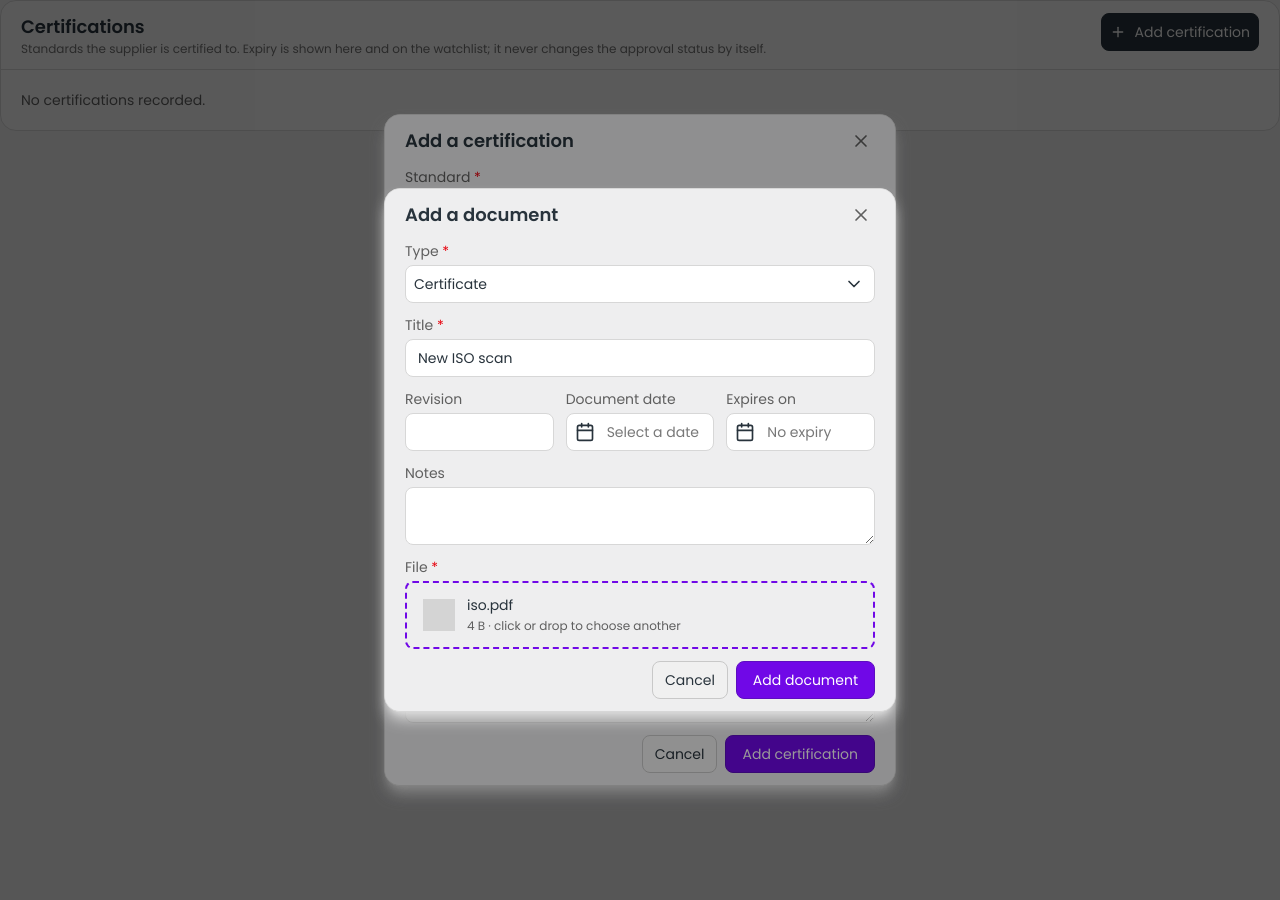
Test: documents › adds a document from the certification form and chooses it, without leaving
The width and height of the screenshot is (1280, 900).
Earlier steps of the test are not shown.
Step 1. Click the button "Add document" → x=805, y=680, box [736,661,875,699]
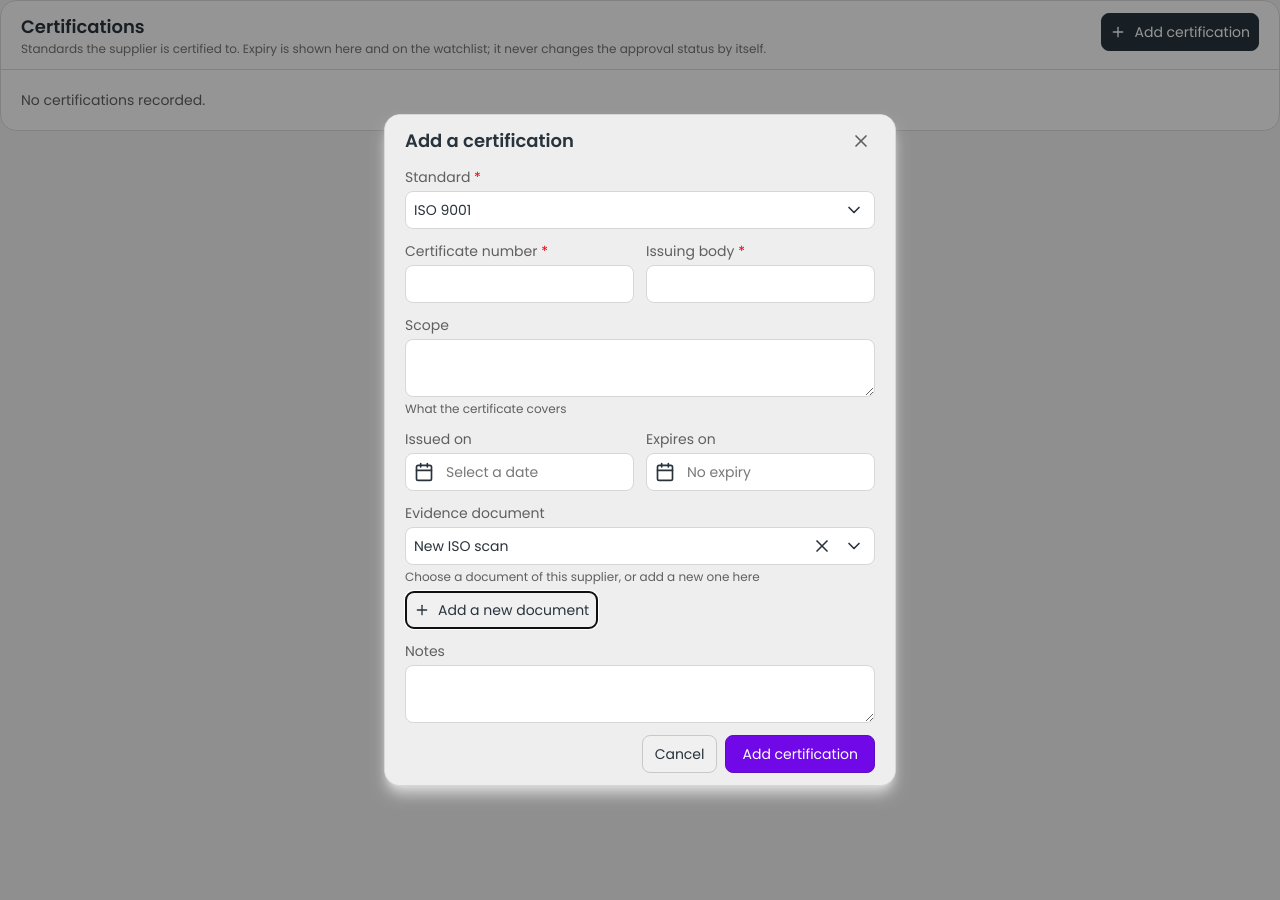
Expected: the number of dialogs is 1, [384,114,896,786]
Expected: the dropdown labelled "Evidence document" holds "New ISO scan", [414,536,798,556]
